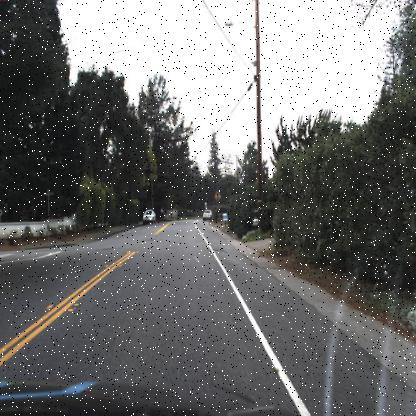car: (142, 205, 158, 223), (201, 210, 213, 223)
